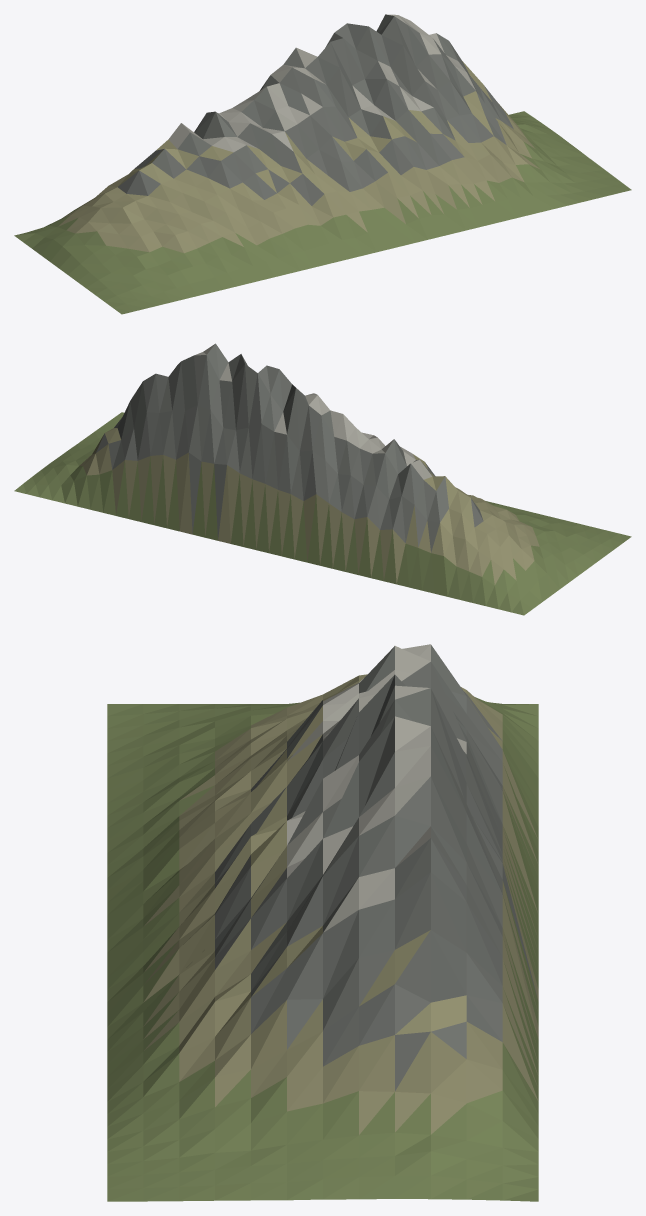
The model's file is backdrop-rock.glb.
3 views of the same model, one above another, from view 1: azimuth 30°, elevation 25°; view 2: azimuth 150°, elevation 25°; view 3: azimuth 270°, elevation 25° (orthographic). The views are drawn at different scales.
Visible parts, largest first — view 1: rock; view 2: rock; view 3: rock.
Boxes of the visible parts, <box> form: rock: <box>14,14,631,314</box>; rock: <box>14,343,631,615</box>; rock: <box>107,644,538,1201</box>.
Bounding box in the file's own units: 1420 × 430 × 520.
Materials: 1 (1 with a texture image).
